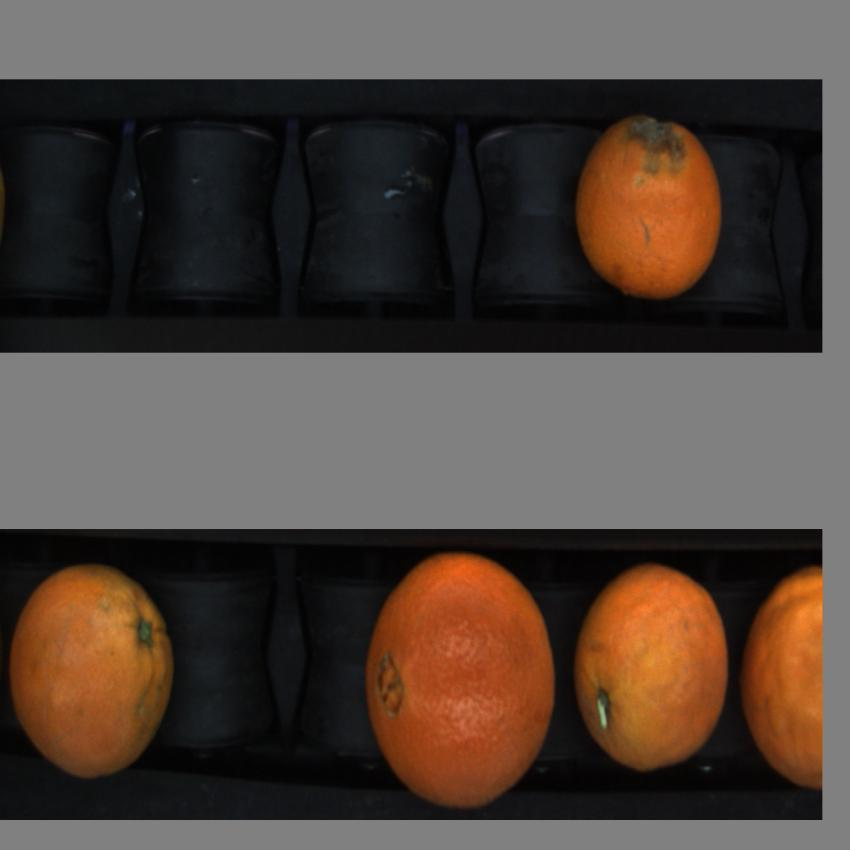Buen estado: (363, 551, 559, 811), (567, 566, 731, 780), (739, 577, 824, 797)
Mal estado: (9, 566, 188, 784), (569, 112, 729, 300)
